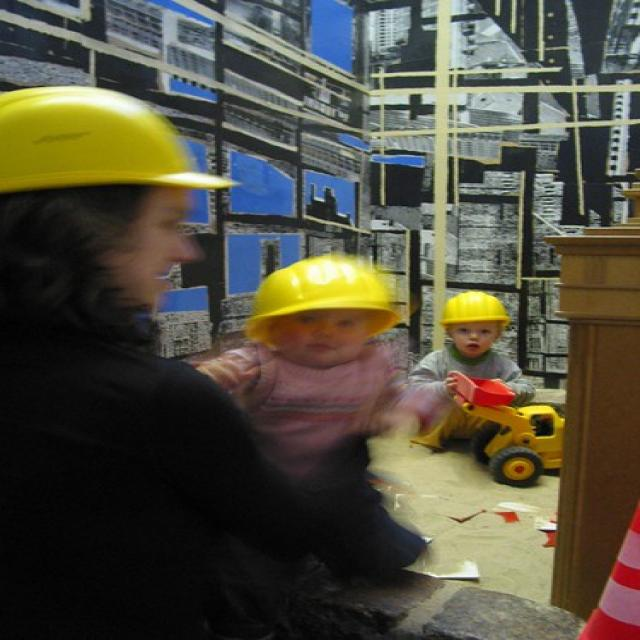Safety-Helmet: (0, 84, 242, 209), (234, 245, 411, 339), (436, 284, 516, 330)
